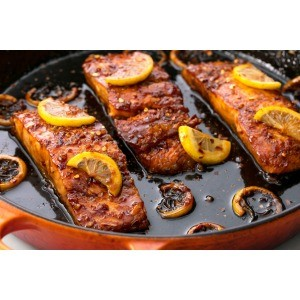salmon_brain food: (202, 61, 283, 168), (27, 92, 93, 212), (129, 64, 188, 161)
